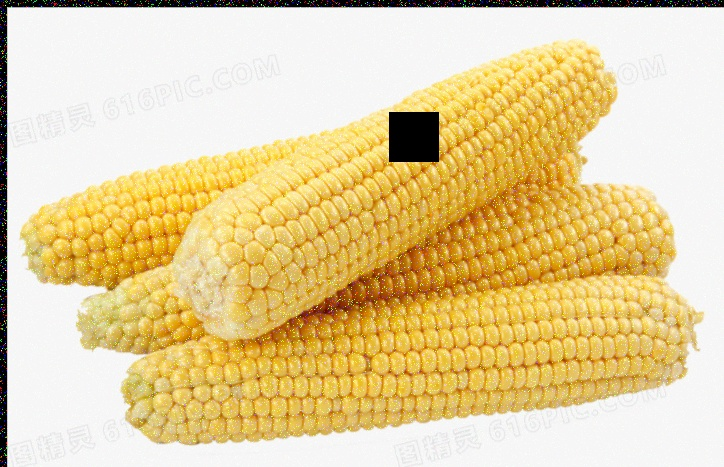corn: (197, 44, 607, 325), (15, 85, 590, 285), (79, 179, 677, 352), (142, 272, 697, 446)
